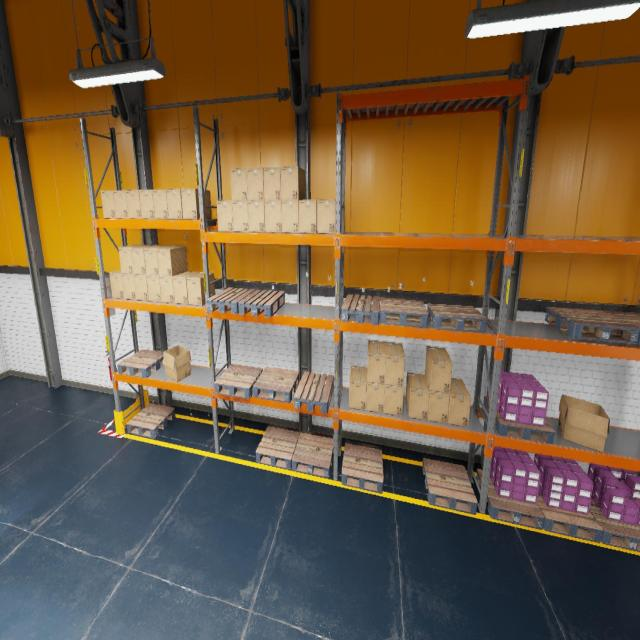box: (558, 394, 610, 452), (425, 346, 452, 394), (424, 375, 450, 423), (406, 372, 429, 420), (448, 378, 470, 427), (163, 345, 191, 382), (186, 272, 215, 306), (156, 246, 188, 276), (172, 271, 200, 304), (385, 342, 405, 387), (181, 188, 211, 218), (118, 245, 148, 274), (144, 246, 172, 276), (367, 340, 386, 384), (130, 245, 158, 274), (349, 365, 367, 410), (281, 167, 305, 200), (318, 200, 336, 233), (299, 200, 317, 233), (281, 200, 299, 233), (263, 167, 281, 200), (384, 385, 403, 416), (366, 382, 385, 413), (264, 200, 282, 232), (230, 168, 248, 200), (247, 168, 264, 200), (248, 201, 265, 232), (232, 201, 249, 232), (166, 189, 183, 219), (217, 200, 233, 231), (152, 189, 168, 219), (139, 190, 155, 218), (100, 190, 116, 218), (146, 275, 162, 302), (109, 270, 124, 298), (126, 190, 141, 218), (113, 190, 128, 218), (121, 274, 136, 300), (160, 276, 174, 303), (134, 274, 148, 300)
pallets: (476, 469, 544, 530), (544, 307, 640, 344), (483, 396, 555, 444), (536, 491, 602, 543), (422, 458, 477, 514), (588, 498, 640, 552), (341, 443, 383, 493), (256, 426, 300, 470), (292, 433, 333, 478), (214, 364, 263, 399), (294, 372, 334, 414), (427, 304, 487, 332), (127, 403, 175, 438), (253, 367, 299, 403), (380, 298, 428, 328), (117, 349, 163, 378), (206, 287, 255, 314), (602, 310, 640, 344), (238, 290, 285, 317), (341, 294, 380, 325)
